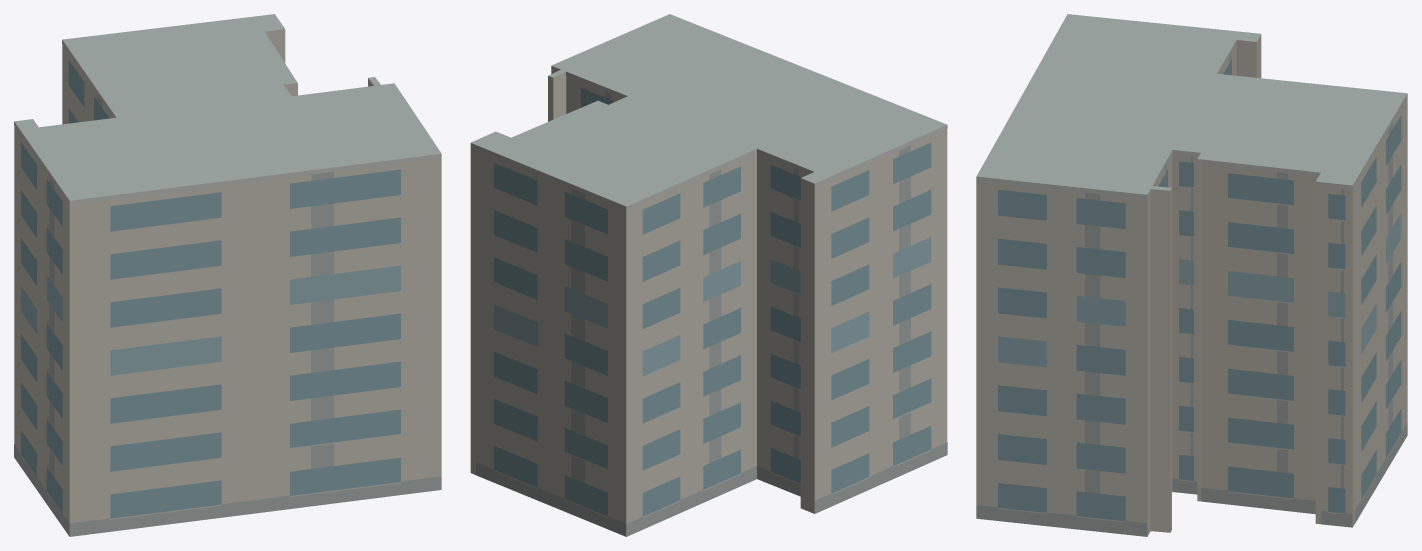
The model's file is survey-upis-32894229.glb.
3 views of the same model, side by side, from view 1: azimuth 30°, elevation 25°; view 2: azimuth 150°, elevation 25°; view 3: azimuth 270°, elevation 25° (orthographic). The views are drawn at different scales.
Parts seen in each view (by area): view 1: survey-upis-32894229.tmp; view 2: survey-upis-32894229.tmp; view 3: survey-upis-32894229.tmp.
Boxes of the visible parts, x1=… form: survey-upis-32894229.tmp: x1=14, y1=14, x2=441, y2=536; survey-upis-32894229.tmp: x1=470, y1=14, x2=947, y2=536; survey-upis-32894229.tmp: x1=976, y1=14, x2=1407, y2=536.
Bounding box in the file's own units: 21.43 × 18.9 × 21.6.
